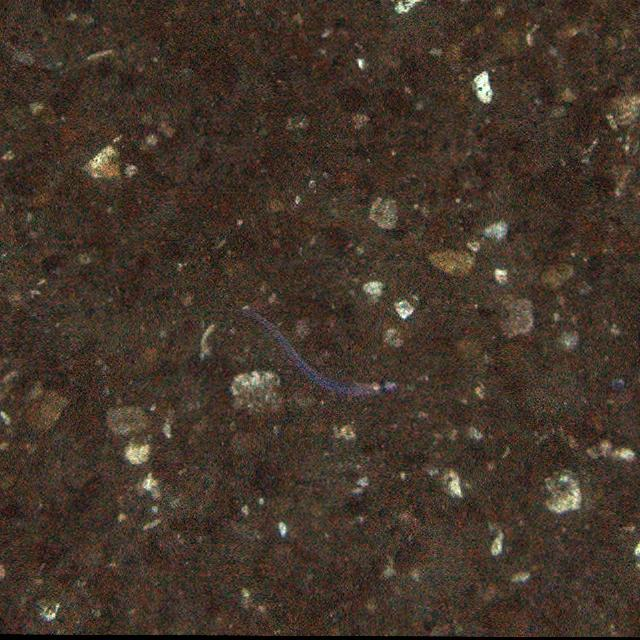roundfish: (244, 311, 400, 408)
